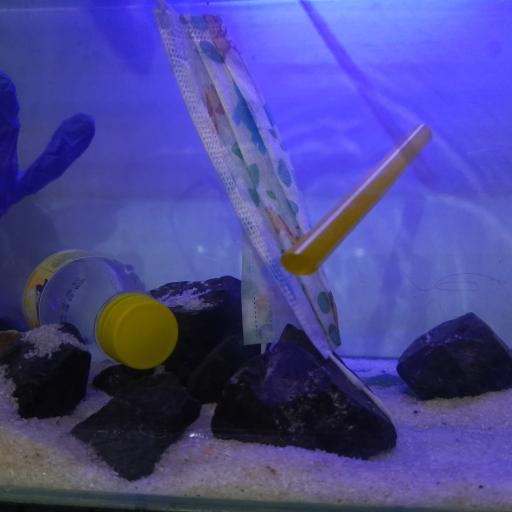bottle_cap: (108, 297, 176, 367)
glove: (0, 74, 95, 223)
mask: (150, 5, 345, 353)
plastic_bottle: (2, 227, 180, 372)
plastic_straw: (286, 122, 435, 274)
